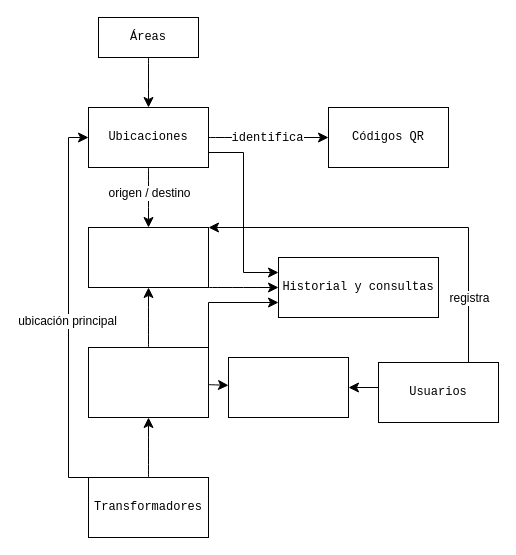
Image size: 516x555. Some labels were removed from this diagram. Here are the shapes that lost their labels. From the top down, the centre of each, then its label:
At point (148, 257): "Movimientos".
At point (148, 382): "Materiales".
At point (288, 387): "Observaciones".
